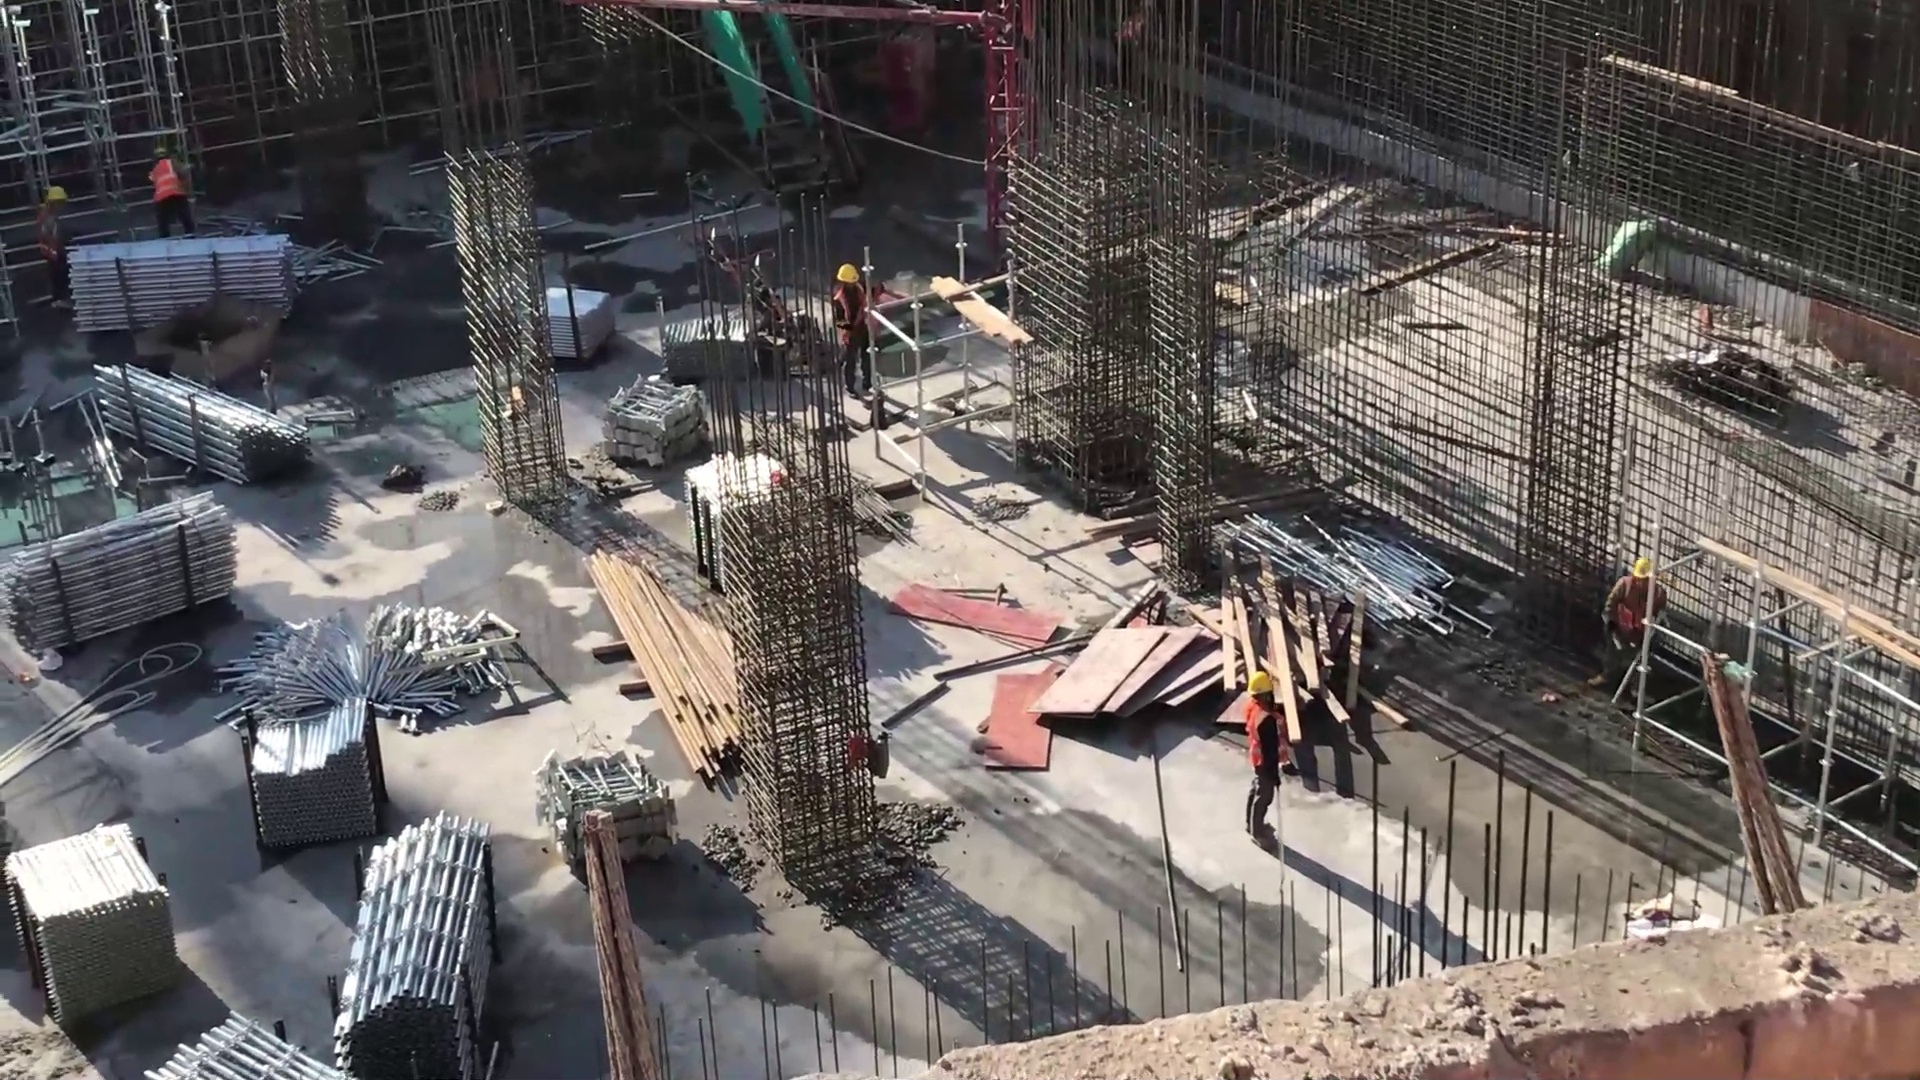board: (1042, 620, 1188, 733)
helmet: (1250, 677, 1275, 694), (839, 264, 860, 280), (47, 189, 63, 199)
person: (1597, 547, 1670, 680), (1595, 545, 1668, 678), (1240, 672, 1288, 837), (833, 262, 881, 397), (139, 143, 197, 238), (36, 181, 79, 296)
scaffold: (343, 823, 483, 1080), (13, 834, 165, 1022), (23, 500, 250, 623), (104, 364, 311, 484), (1264, 511, 1457, 630), (248, 685, 386, 846), (70, 235, 305, 320), (155, 997, 339, 1080), (661, 312, 717, 386), (550, 287, 609, 358)
vest: (1247, 704, 1293, 773), (153, 159, 181, 208)
wood: (596, 539, 754, 768), (1221, 565, 1367, 729)
